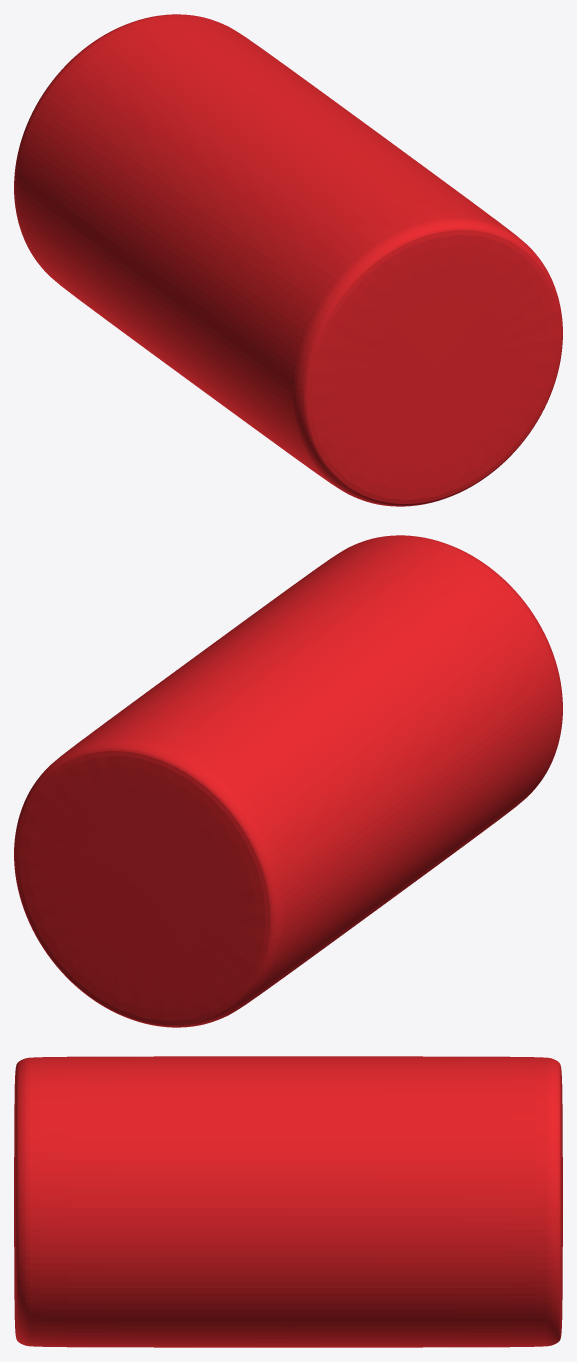
File: knopka.fbx
3 views of the same model, one above another, from view 1: azimuth 30°, elevation 25°; view 2: azimuth 150°, elevation 25°; view 3: azimuth 270°, elevation 25° (orthographic). The views are drawn at different scales.
Visible parts, largest first — view 1: Cylinder; view 2: Cylinder; view 3: Cylinder.
Boxes of the visible parts, box(x1,y1,x2,y2) form: Cylinder: box(14, 14, 562, 506); Cylinder: box(14, 535, 562, 1027); Cylinder: box(14, 1056, 562, 1347).
Size of the model in its own units: 199 by 199 by 374.
